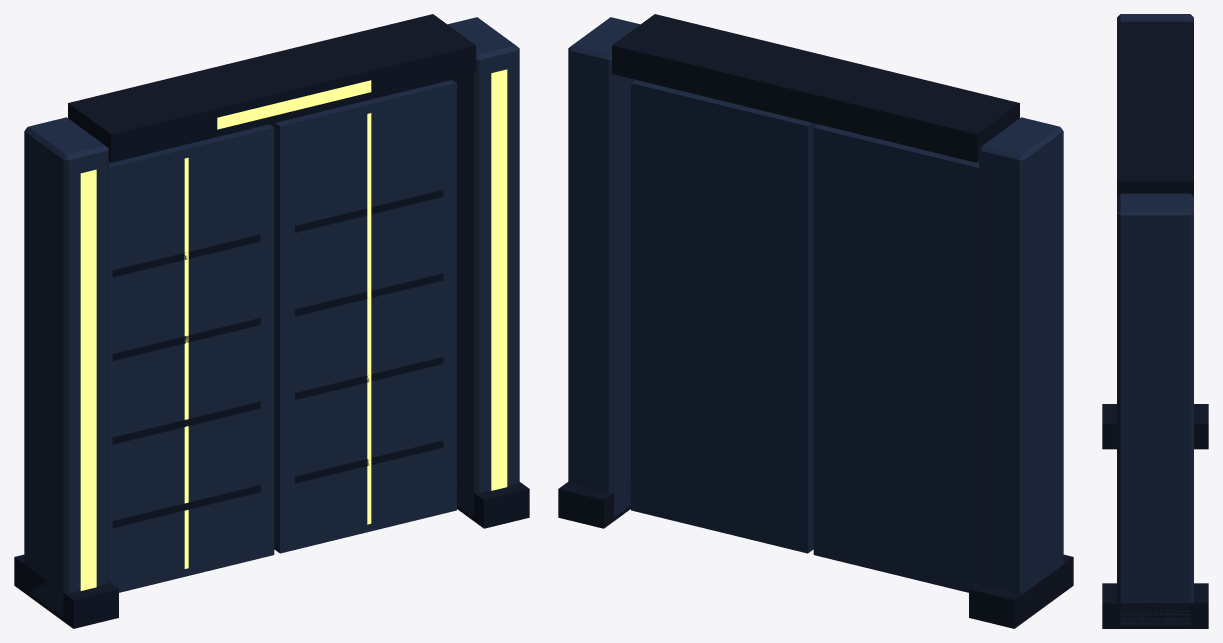
File: Gate.fbx
3 views of the same model, side by side, from view 1: azimuth 30°, elevation 25°; view 2: azimuth 150°, elevation 25°; view 3: azimuth 270°, elevation 25° (orthographic). The views are drawn at different scales.
Parts seen in each view (by area): view 1: KIT_Gate_Door, KIT_Gate_Frame; view 2: KIT_Gate_Door, KIT_Gate_Frame; view 3: KIT_Gate_Frame.
Boxes of the visible parts, box(x1,y1,x2,y2) form: KIT_Gate_Door: box(109, 80, 456, 592); KIT_Gate_Frame: box(14, 14, 529, 628); KIT_Gate_Door: box(631, 80, 978, 592); KIT_Gate_Frame: box(558, 14, 1073, 628); KIT_Gate_Frame: box(1102, 14, 1208, 628).
Bounding box in the file's own units: 4 × 4 × 0.9.
